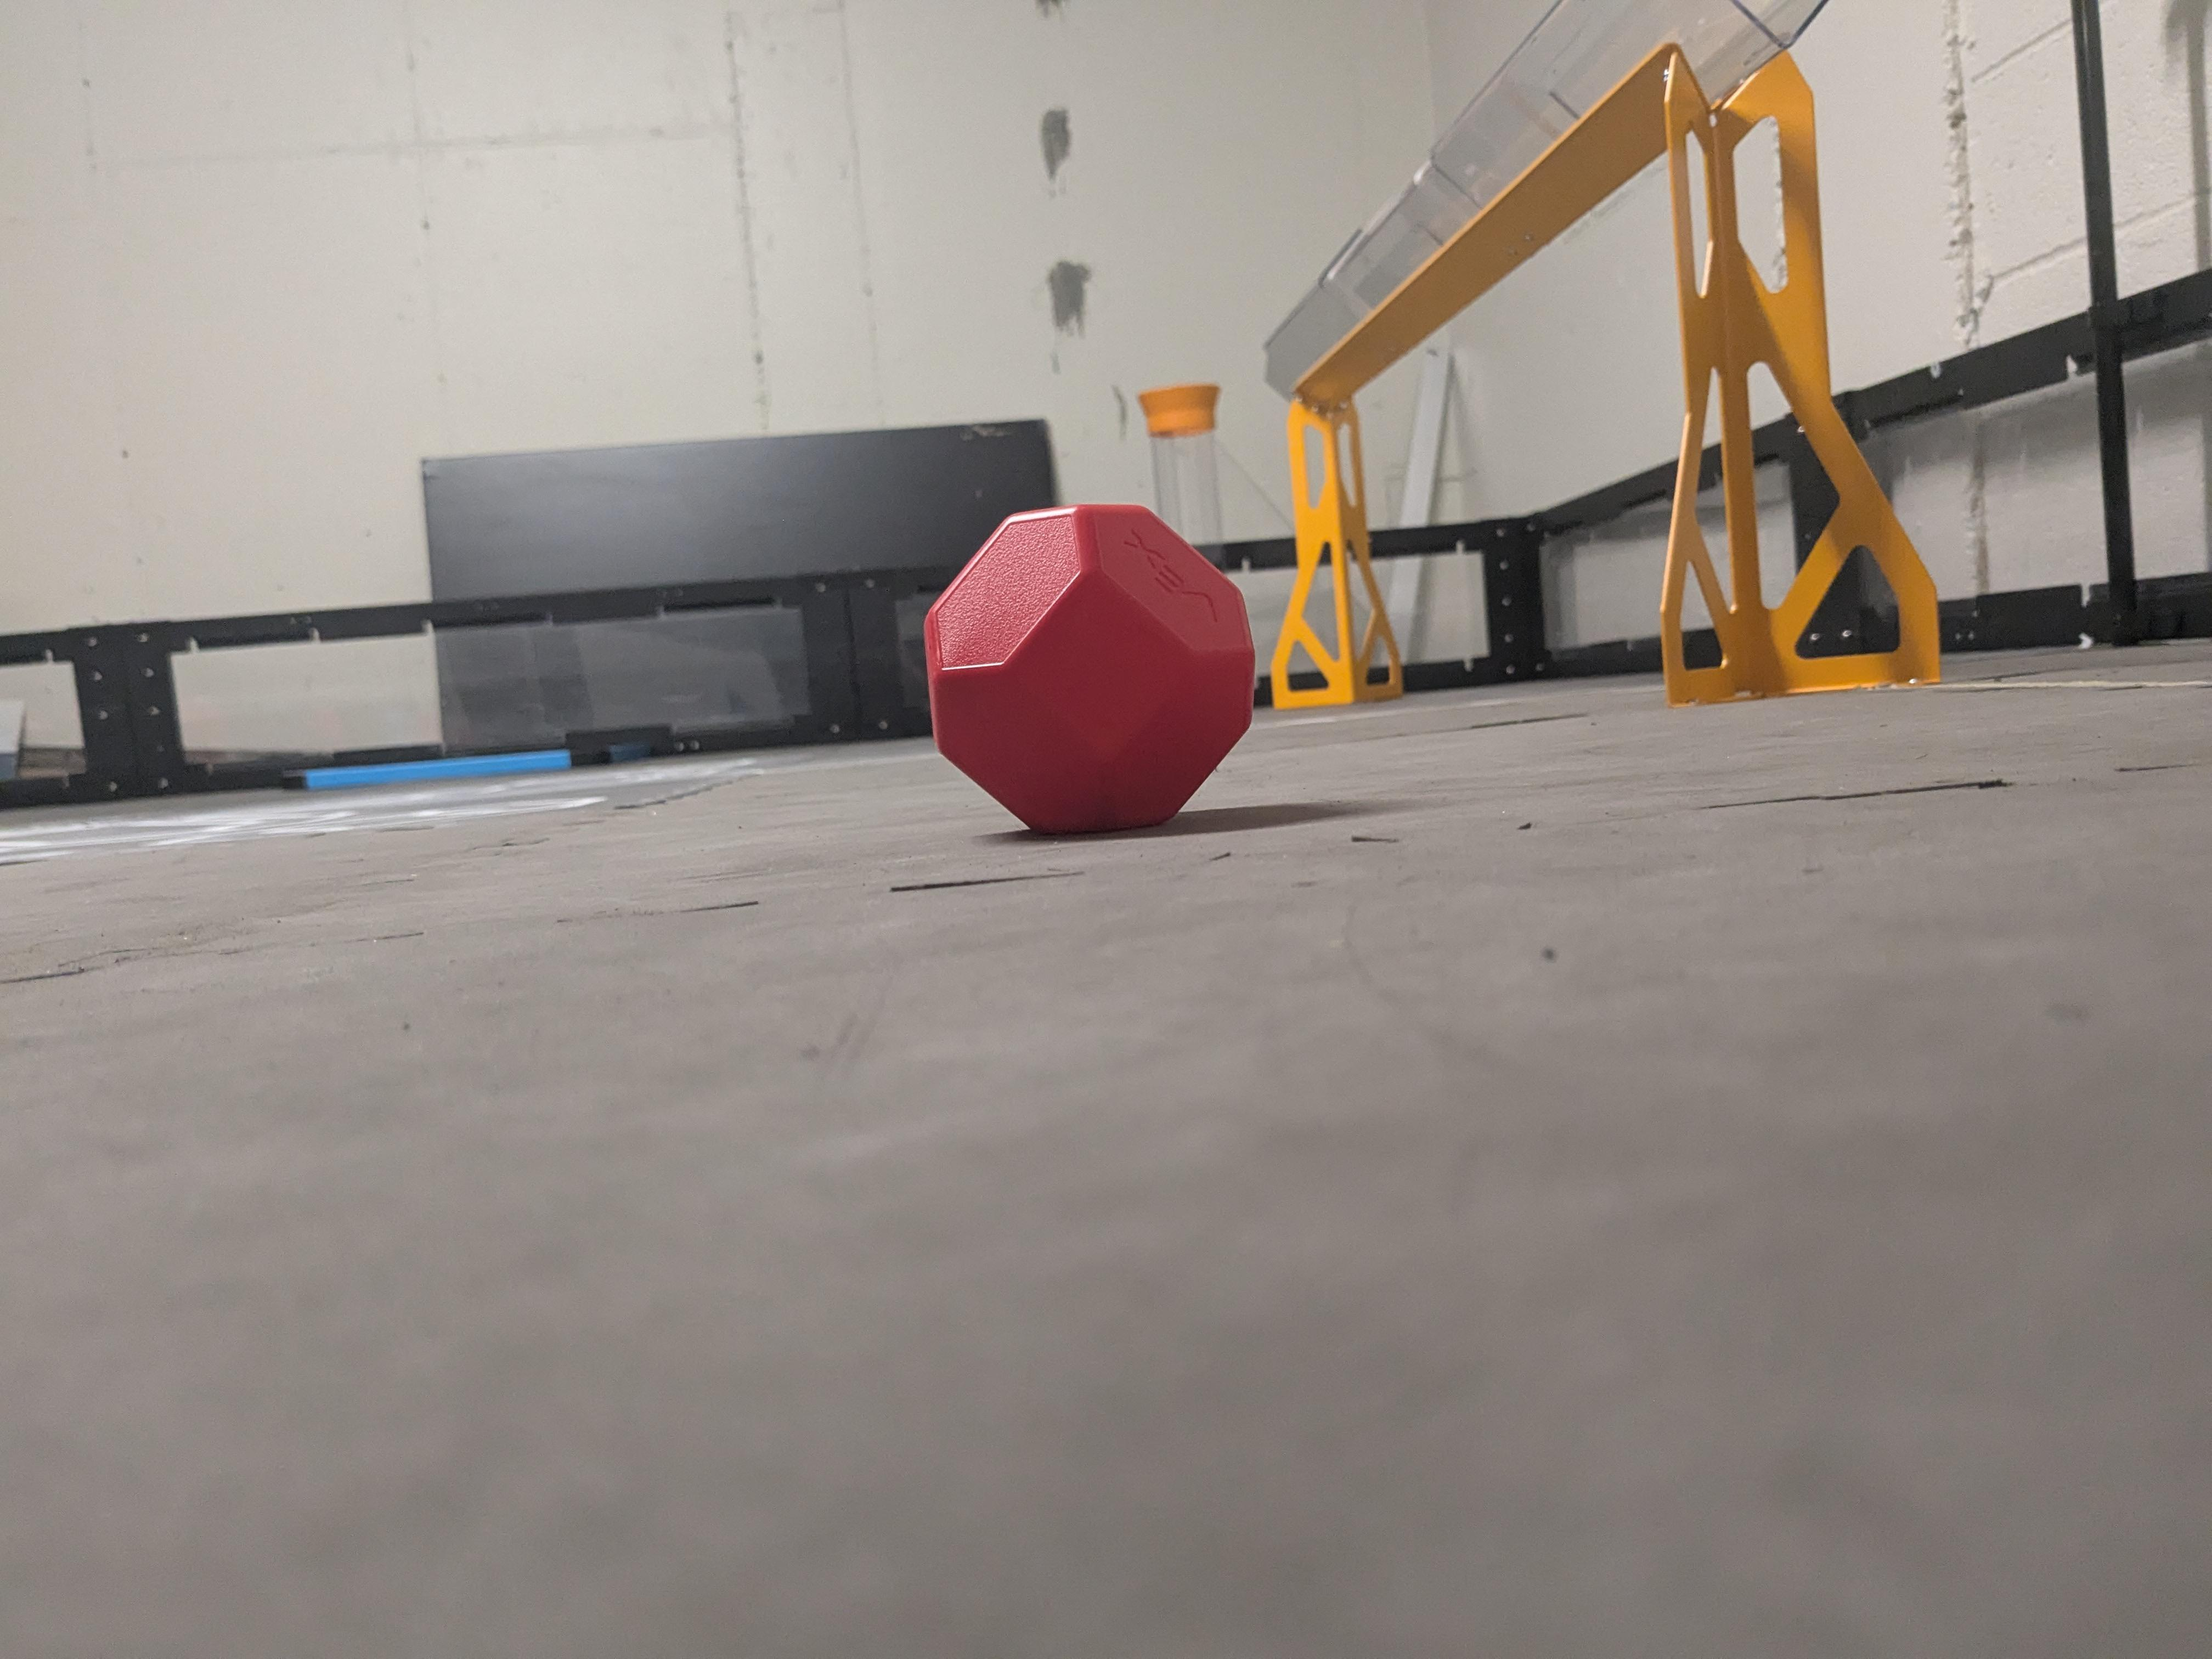Vex-Pieces-RED: (925, 509, 1254, 831)
